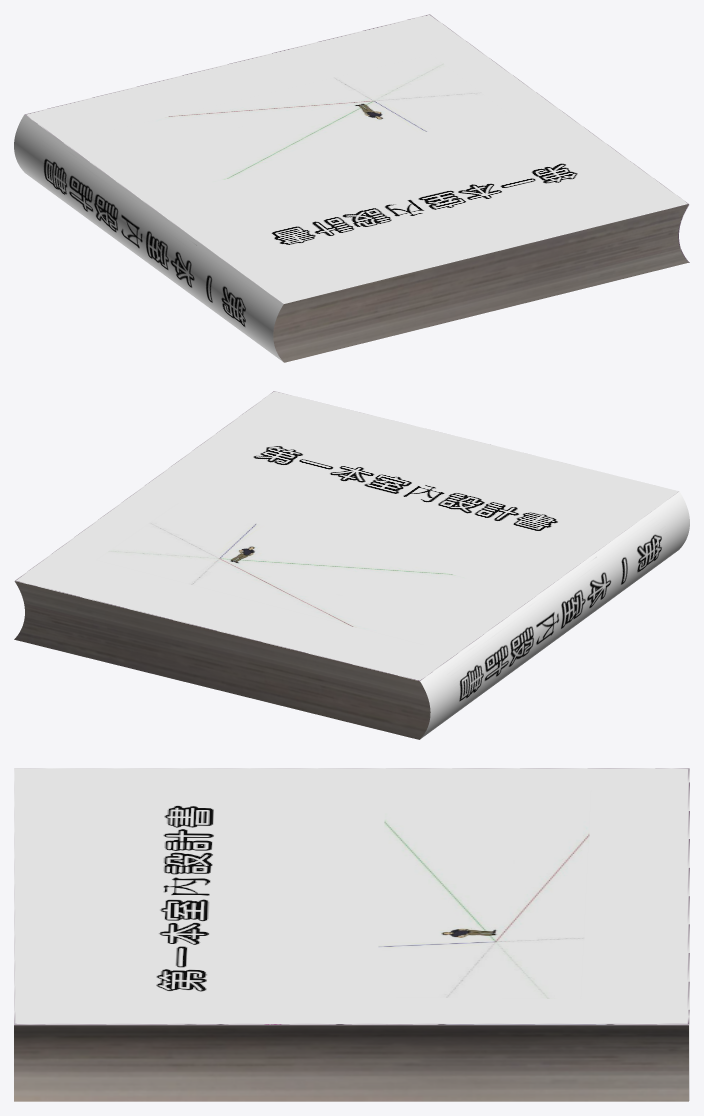
File: book1.fbx
3 renders of one model, top to bottom at view 1: azimuth 30°, elevation 25°; view 2: azimuth 150°, elevation 25°; view 3: azimuth 270°, elevation 25°, orthographic. The views are drawn at different scales.
Visible parts, largest first — view 1: Arc001; view 2: Arc001; view 3: Arc001, Arc002.
Boxes of the visible parts, x1=… form: Arc001: x1=14, y1=14, x2=688, y2=362; Arc001: x1=14, y1=391, x2=689, y2=739; Arc001: x1=14, y1=768, x2=689, y2=1100; Arc002: x1=14, y1=1024, x2=688, y2=1101.
Bounding box in the file's own units: 221 × 30.51 × 238.
Materials: 1 (1 with a texture image).
